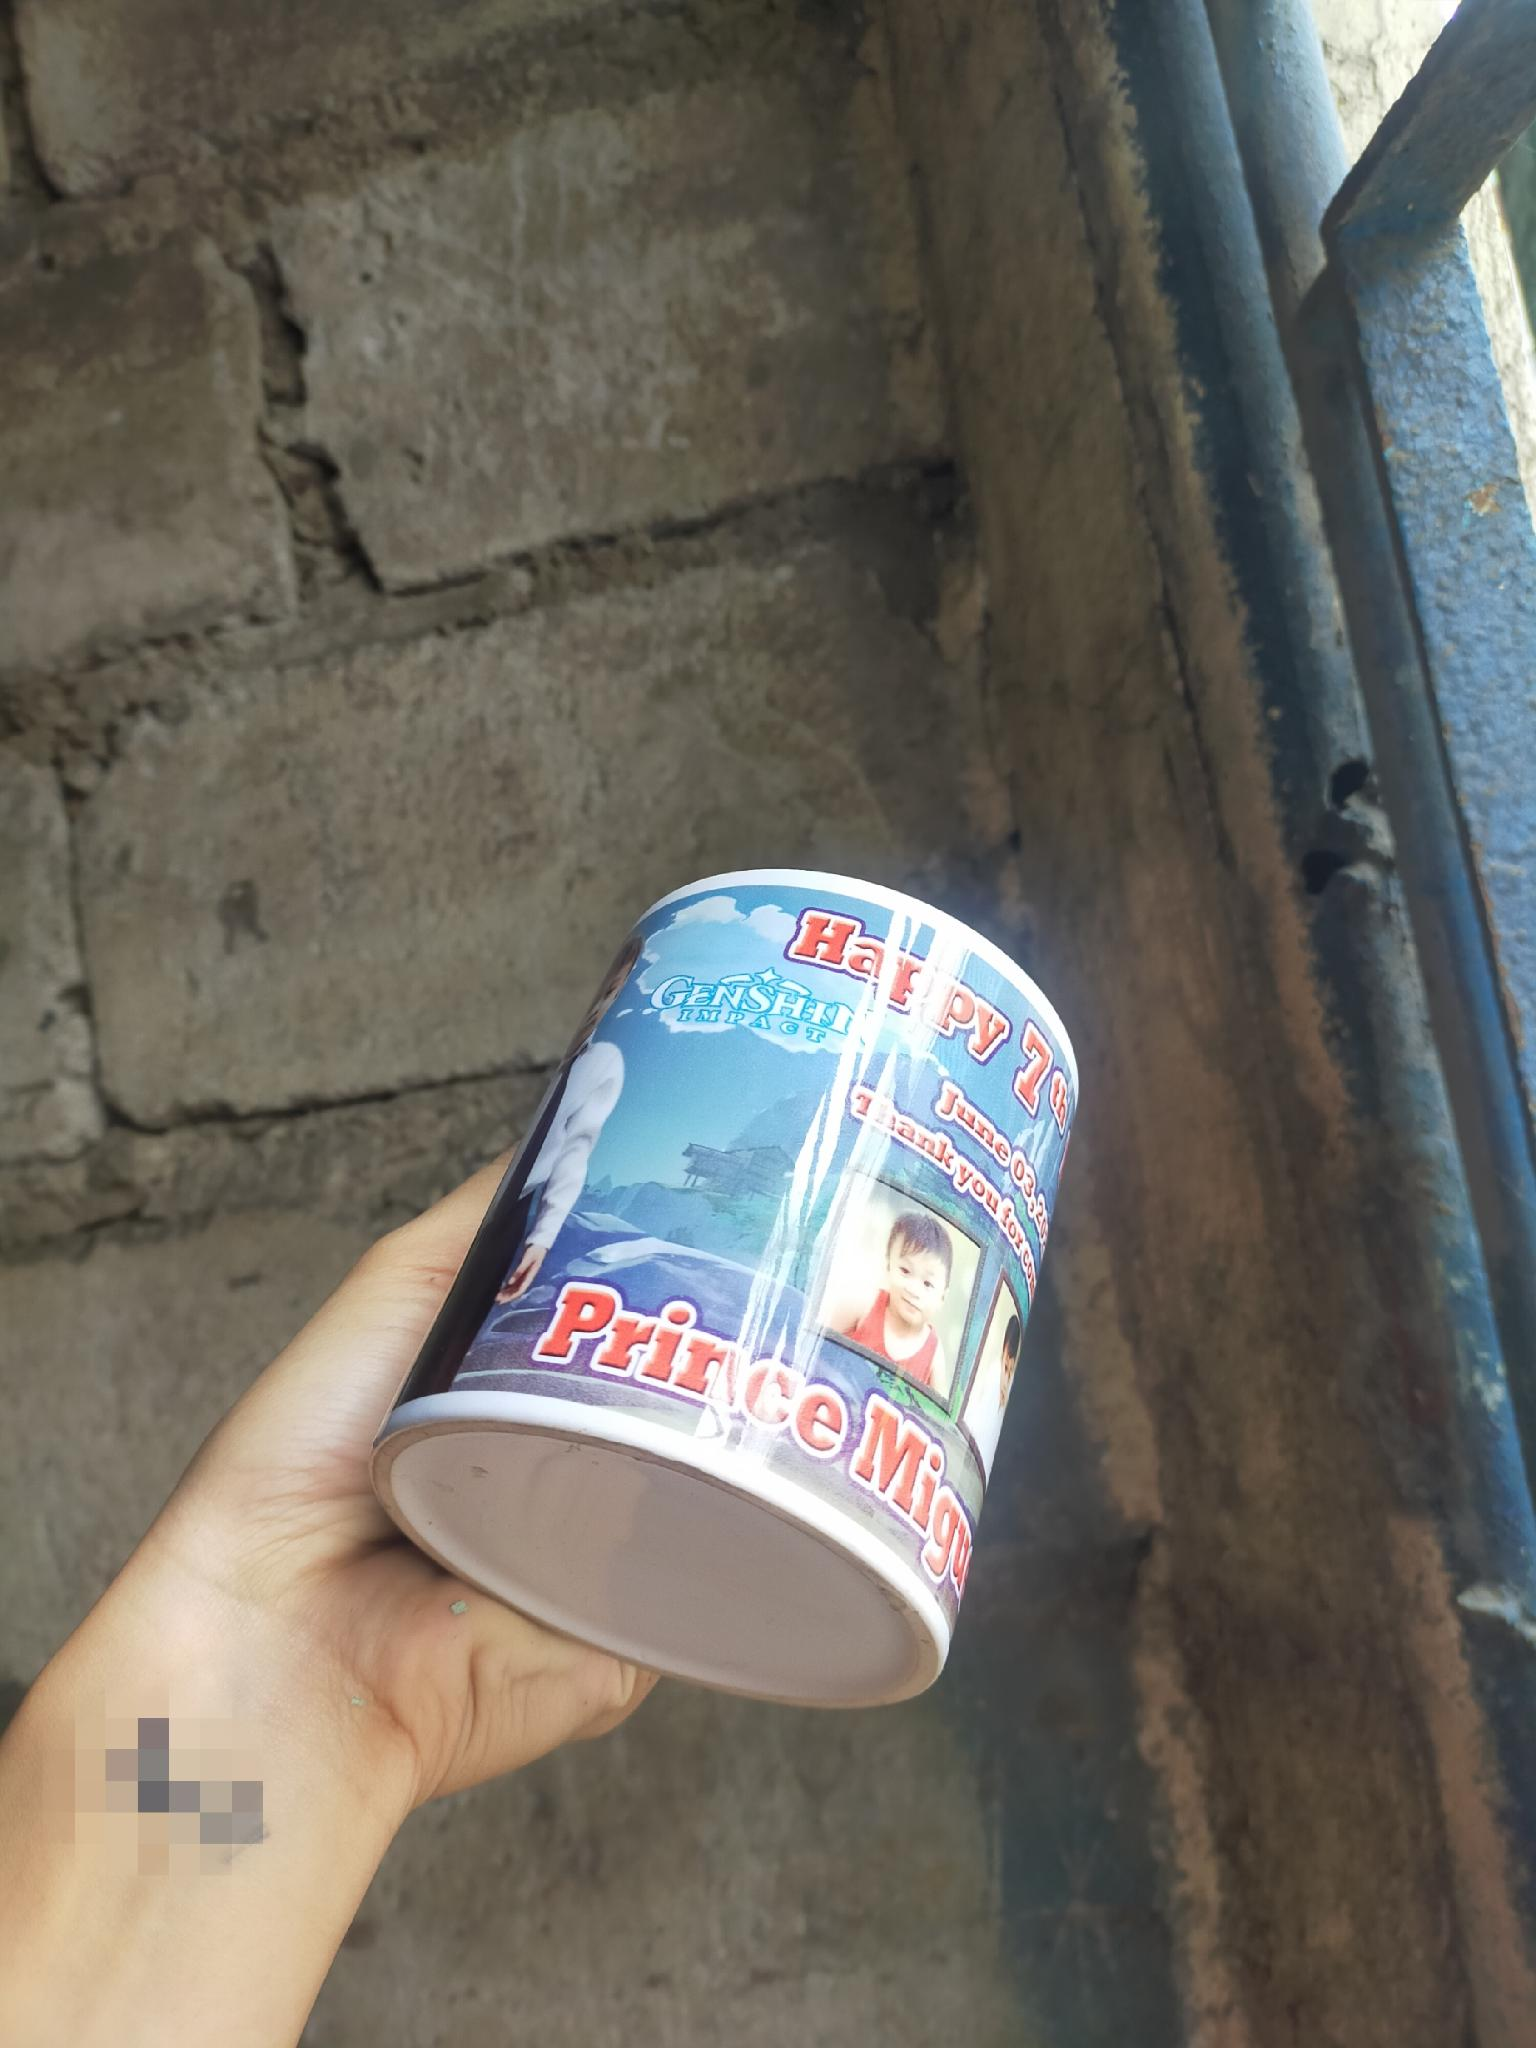Coffee Mug: (384, 863, 1070, 1705)
